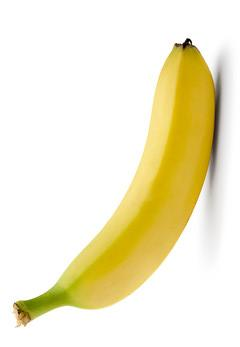banana: (0, 0, 240, 347)
